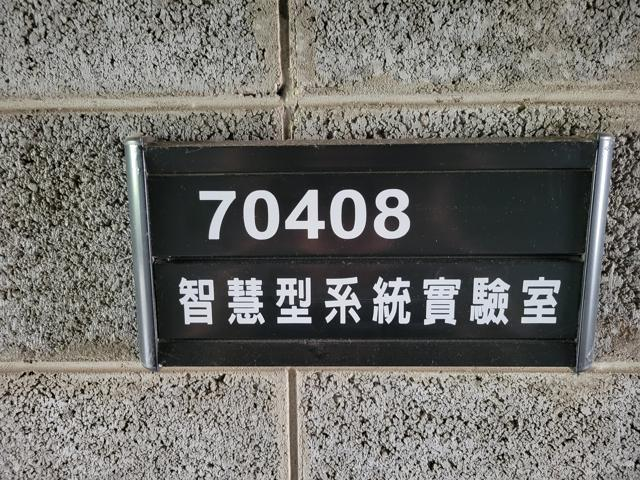doorplate: (117, 127, 621, 388)
